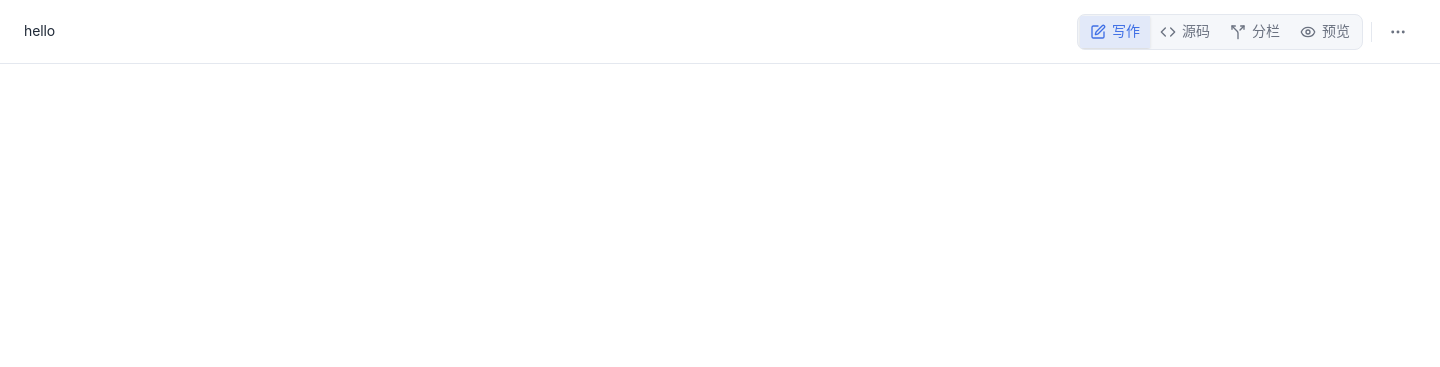
EditorToolbar / 更多菜单 › 「更多」菜单项触发动作并关闭菜单
This screenshot has width=1440, height=367.
Click the button named "更多" at (1398, 32), box [1380, 14, 1416, 50]
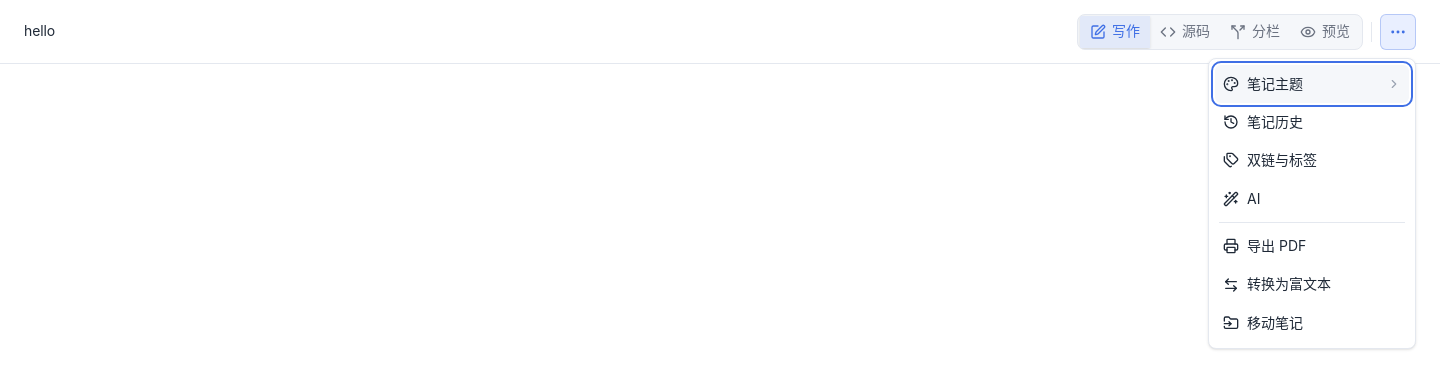
Click the menu item "移动笔记" at (1312, 323), box [1215, 304, 1409, 342]
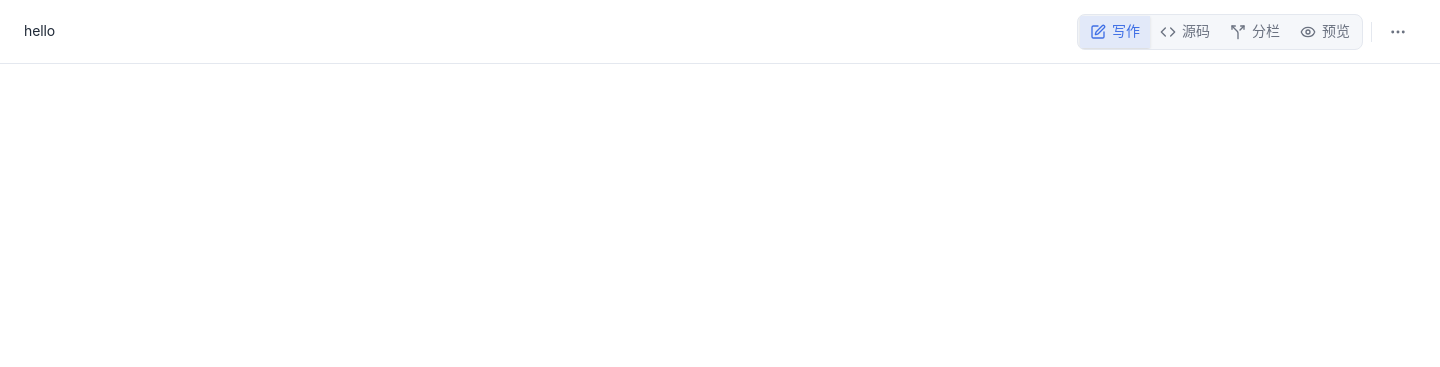
Check: the menu item is gone
